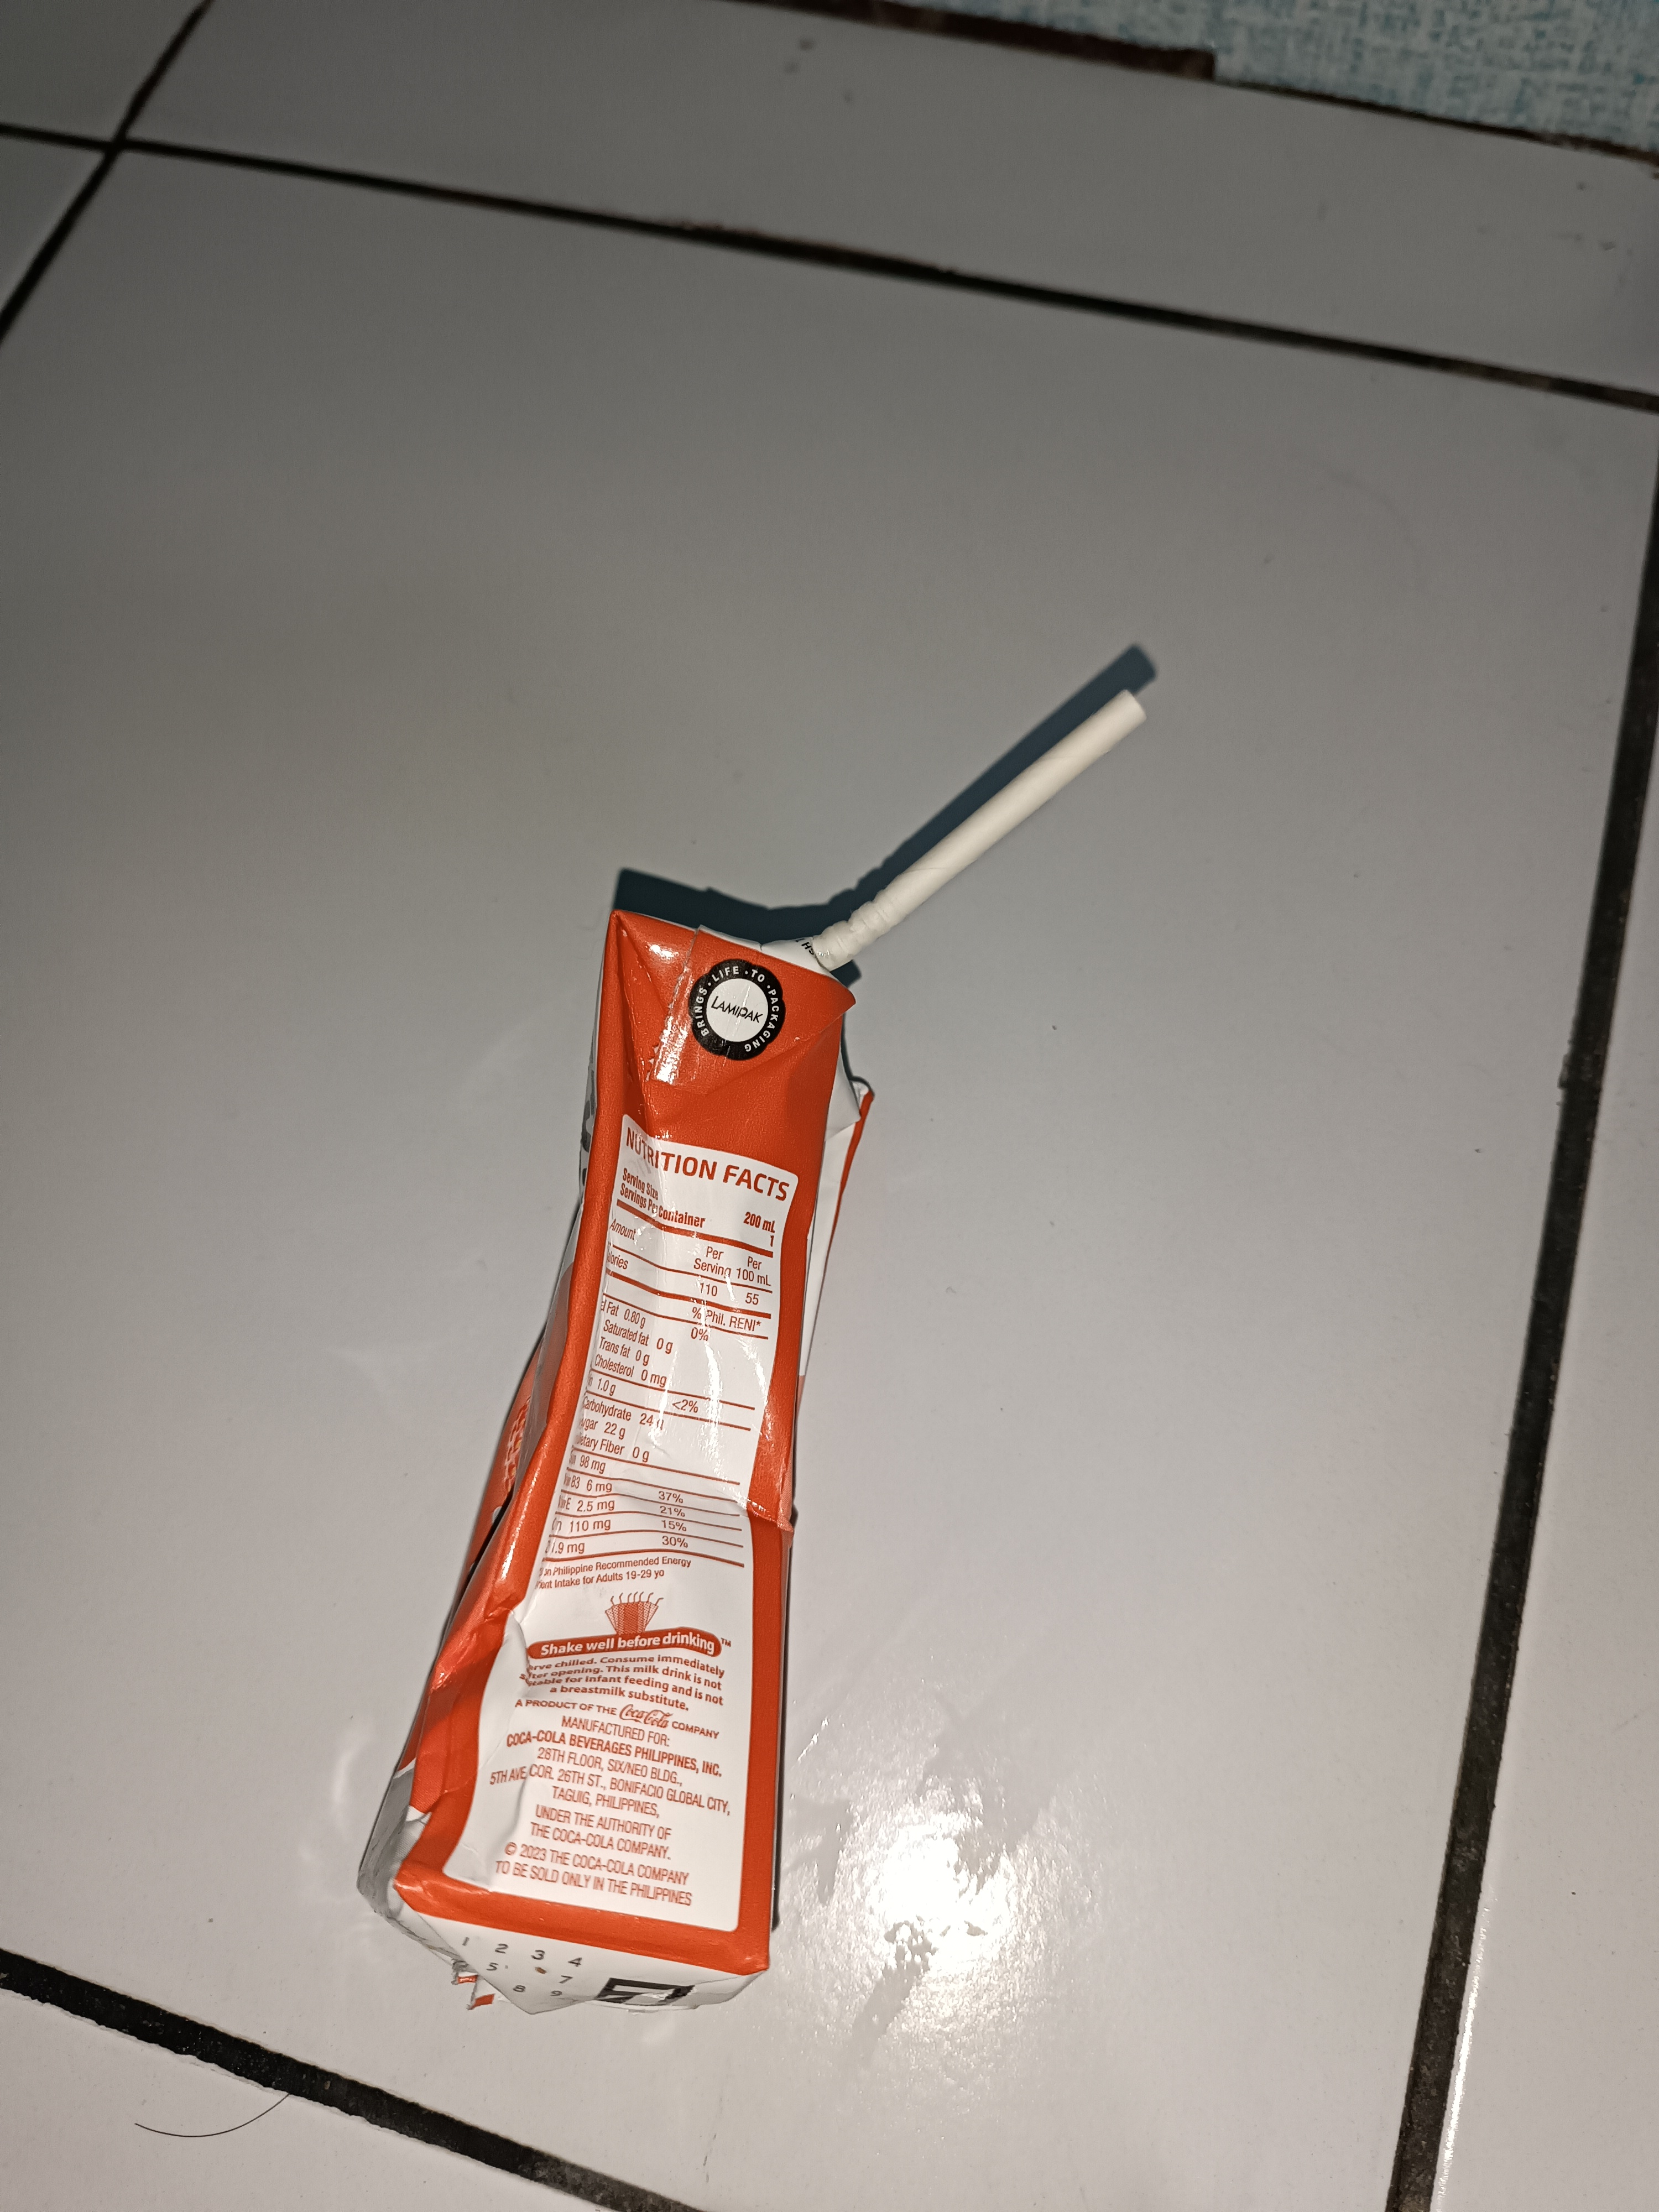Juice Box: (288, 561, 1169, 2047)
